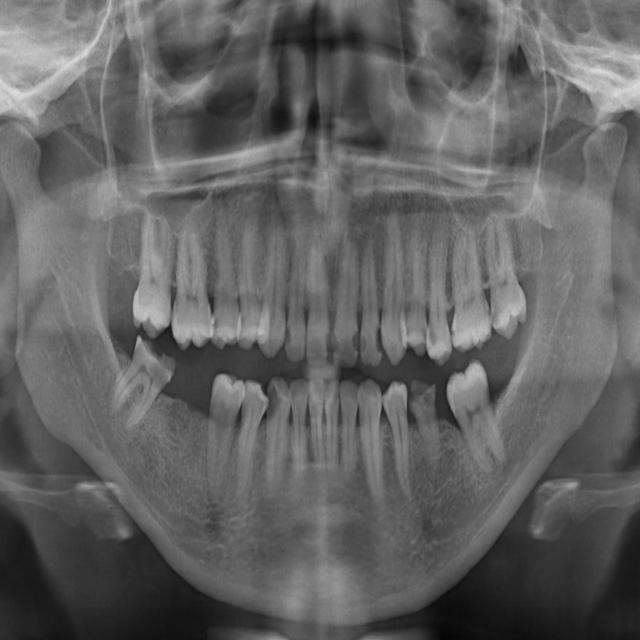AGS Medikal Implant: (359, 234, 383, 369)
AMerOss Implant: (380, 207, 406, 366)
Amalgam filling: (400, 236, 430, 357)
Anthogyr Implant: (421, 226, 453, 369)
Bicon Implant: (434, 221, 495, 355)
BioHorizons Implant: (482, 214, 530, 341)
Blue Sky Bio Implant: (438, 355, 510, 481)
Caries: (129, 210, 180, 340)
Composite filling: (405, 375, 444, 476)
Cowellmedi Implant: (381, 379, 415, 508)
Crown: (357, 377, 386, 508)
DENTSPLY Implant: (340, 377, 361, 483)
Dentatus Implant: (324, 377, 339, 476)
Dentis Implant: (307, 377, 326, 478)
Dentium Implant: (289, 378, 307, 483)
Euroteknika Implant: (263, 374, 292, 501)
Filling: (232, 377, 269, 504)
Frontier Implant: (187, 372, 248, 510)
Hiossen Implant: (156, 225, 218, 352)
Keystone Dental Implant: (101, 330, 185, 442)
MIS Implant: (210, 200, 243, 352)
Mandible: (236, 213, 270, 351)
Maxilla: (257, 204, 295, 360)
Megagen Implant: (283, 227, 311, 364)
Neodent Implant: (305, 220, 331, 369)
Neoss Implant: (332, 227, 359, 370)
